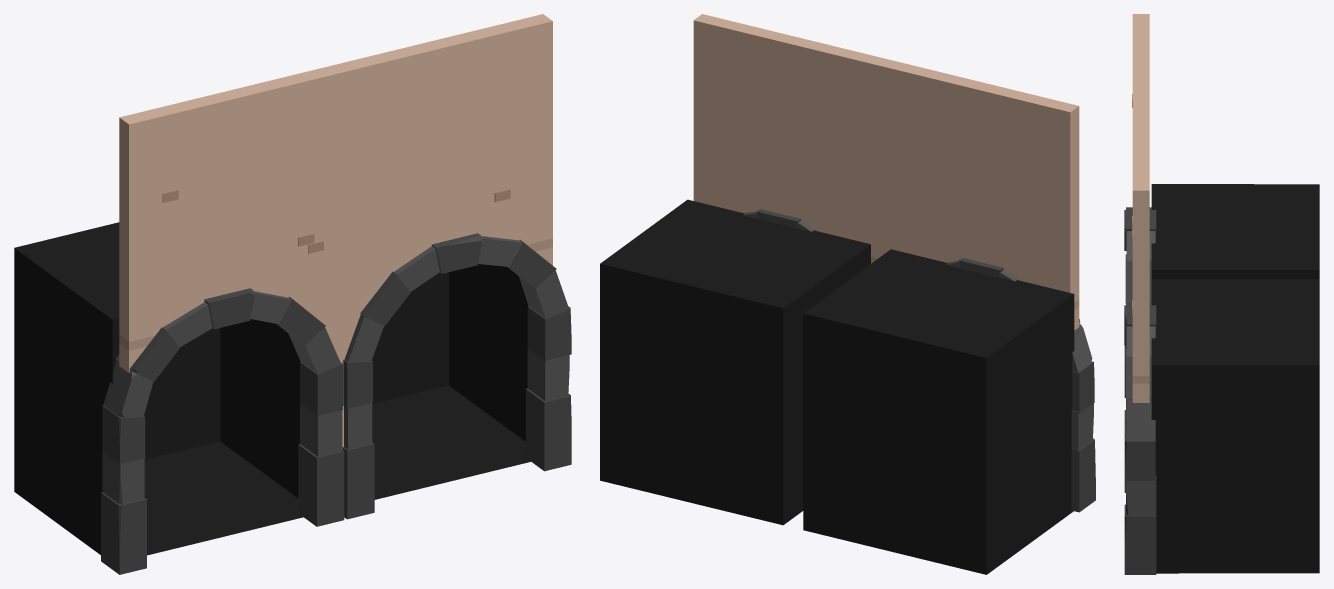
The model's file is Wall_08.fbx.
The picture shows the model from 3 angles, left to right: view 1: azimuth 30°, elevation 25°; view 2: azimuth 150°, elevation 25°; view 3: azimuth 270°, elevation 25°; orthographic projection. The views are drawn at different scales.
Parts seen in each view (by area): view 1: Wall_08; view 2: Wall_08; view 3: Wall_08.
Boxes of the visible parts, <box> form: Wall_08: <box>14,14,571,574</box>; Wall_08: <box>600,14,1095,574</box>; Wall_08: <box>1124,14,1319,574</box>.
Bounding box in the file's own units: 1067 × 1006 × 468.
